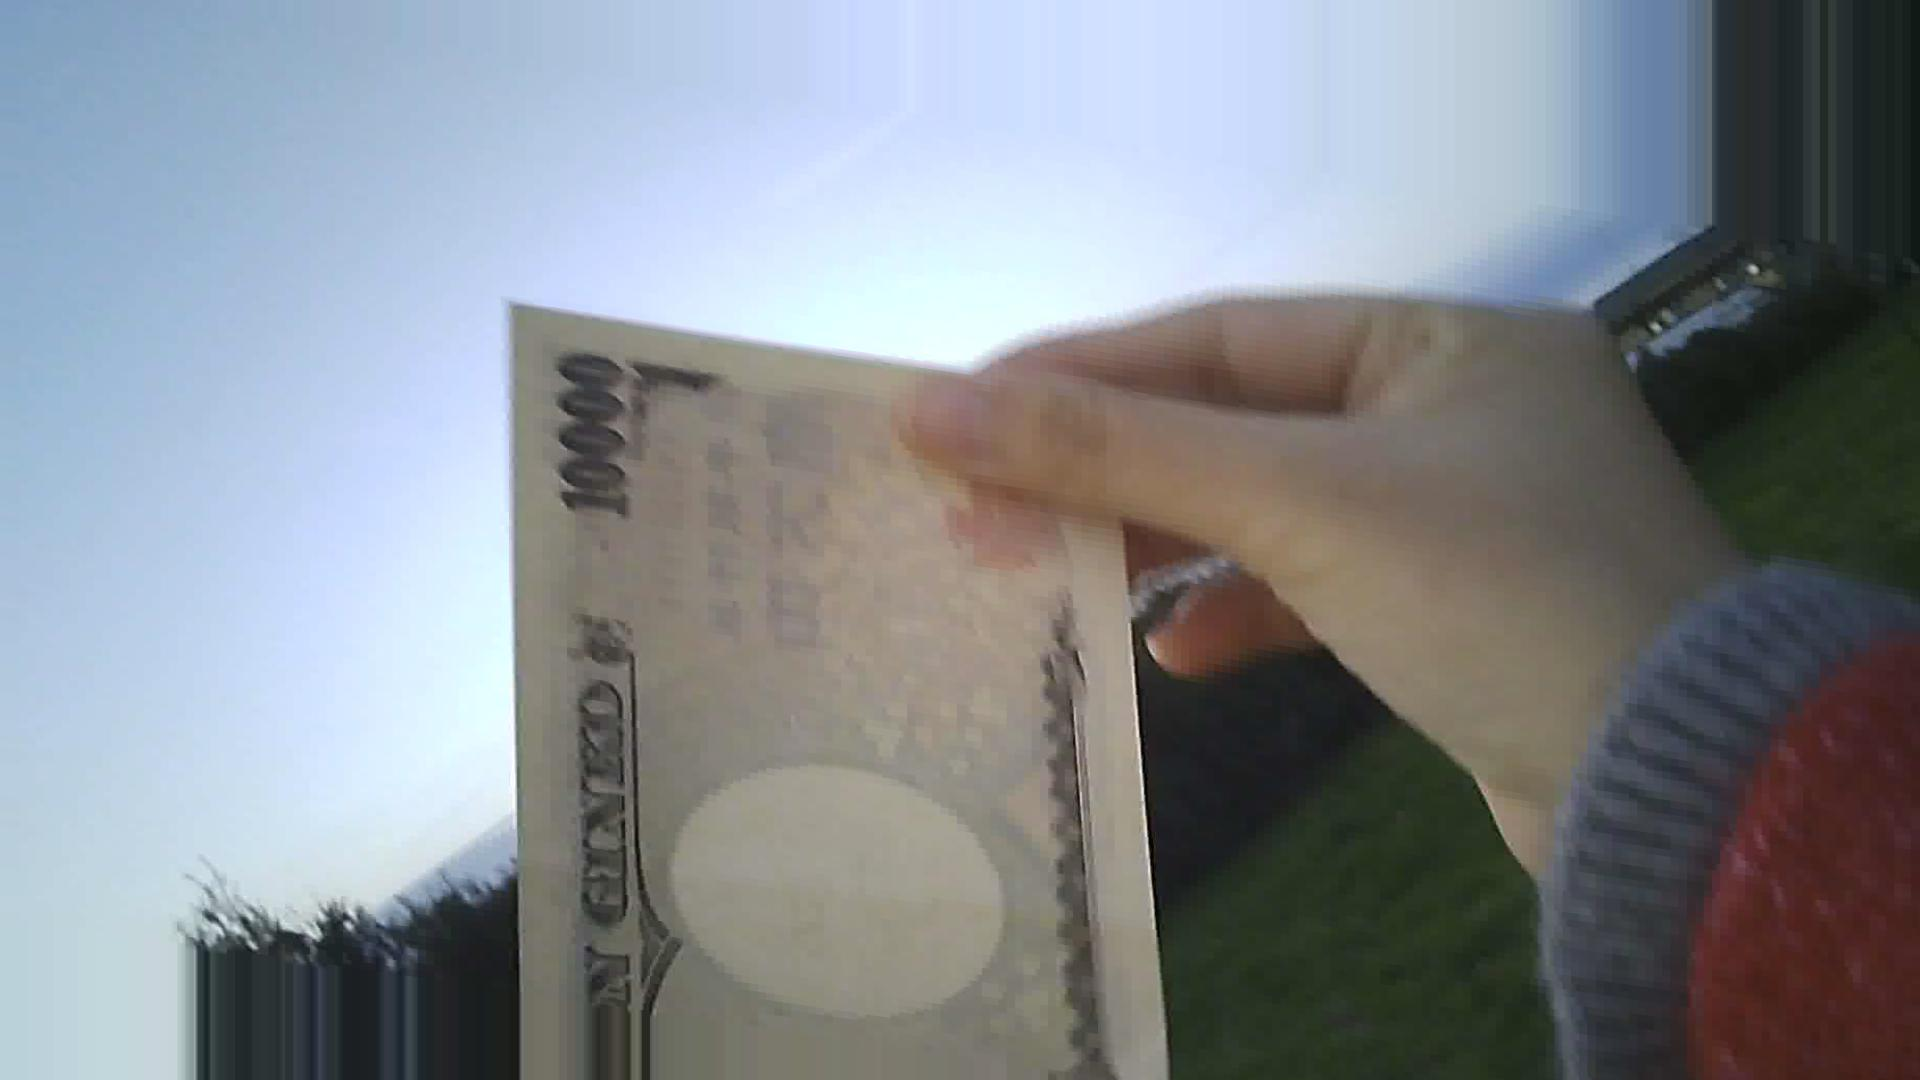10,000 Yen: (442, 256, 1192, 1079)
